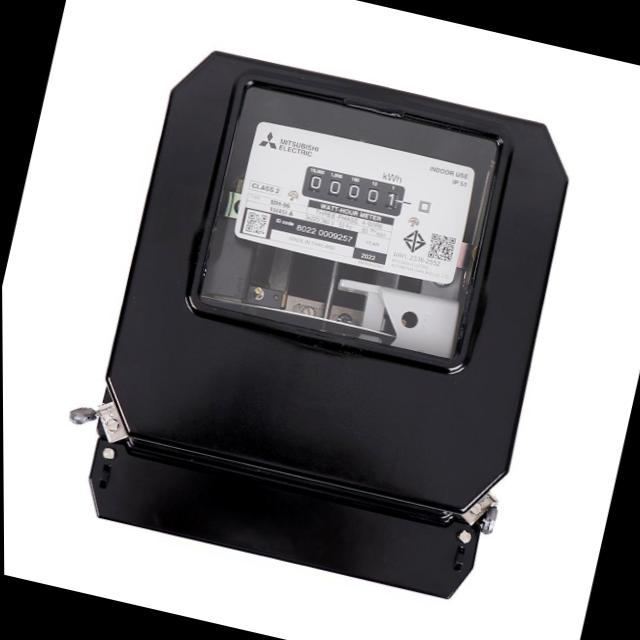digit_area: (300, 163, 408, 214)
